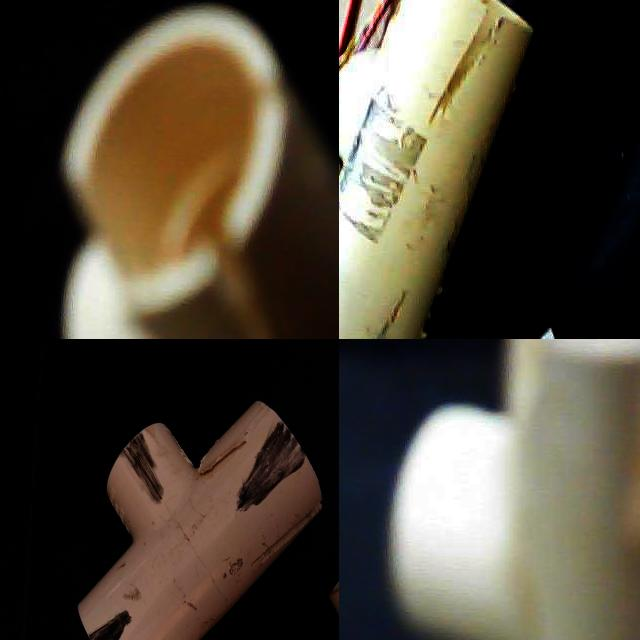Defective: (341, 55, 443, 240), (58, 164, 147, 312), (429, 0, 512, 119), (204, 223, 282, 339), (617, 340, 640, 521), (258, 66, 300, 150), (341, 292, 416, 339)
T Joint: (26, 0, 339, 339), (339, 0, 533, 339)
